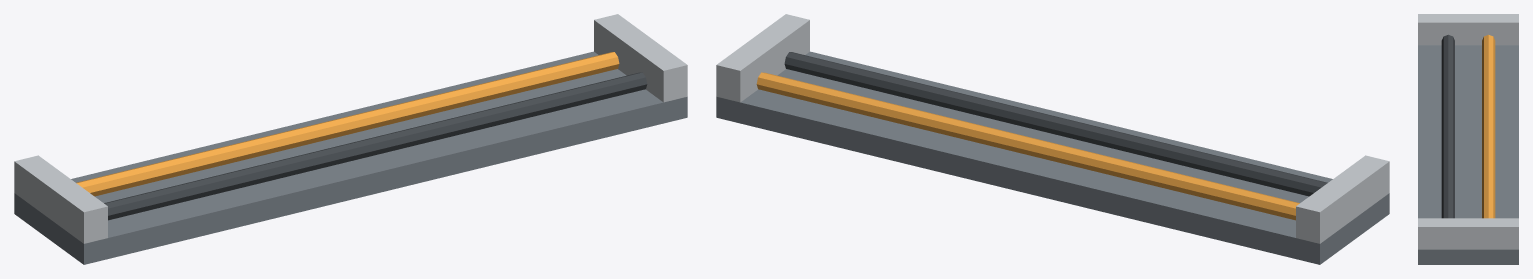
The model's file is mech-hangar-and-battle-frames-cable-trench-e0fa32d3__26954.glb.
The picture shows the model from 3 angles, left to right: view 1: azimuth 30°, elevation 25°; view 2: azimuth 150°, elevation 25°; view 3: azimuth 270°, elevation 25°; orthographic projection. The views are drawn at different scales.
Visible parts, largest first — view 1: cable-trench; view 2: cable-trench; view 3: cable-trench.
Boxes of the visible parts, x1,y1,x2,y2 form: cable-trench: [14, 14, 687, 264]; cable-trench: [716, 14, 1389, 264]; cable-trench: [1418, 14, 1518, 264].
Bounding box in the file's own units: 3 × 0.2501 × 0.5999.
